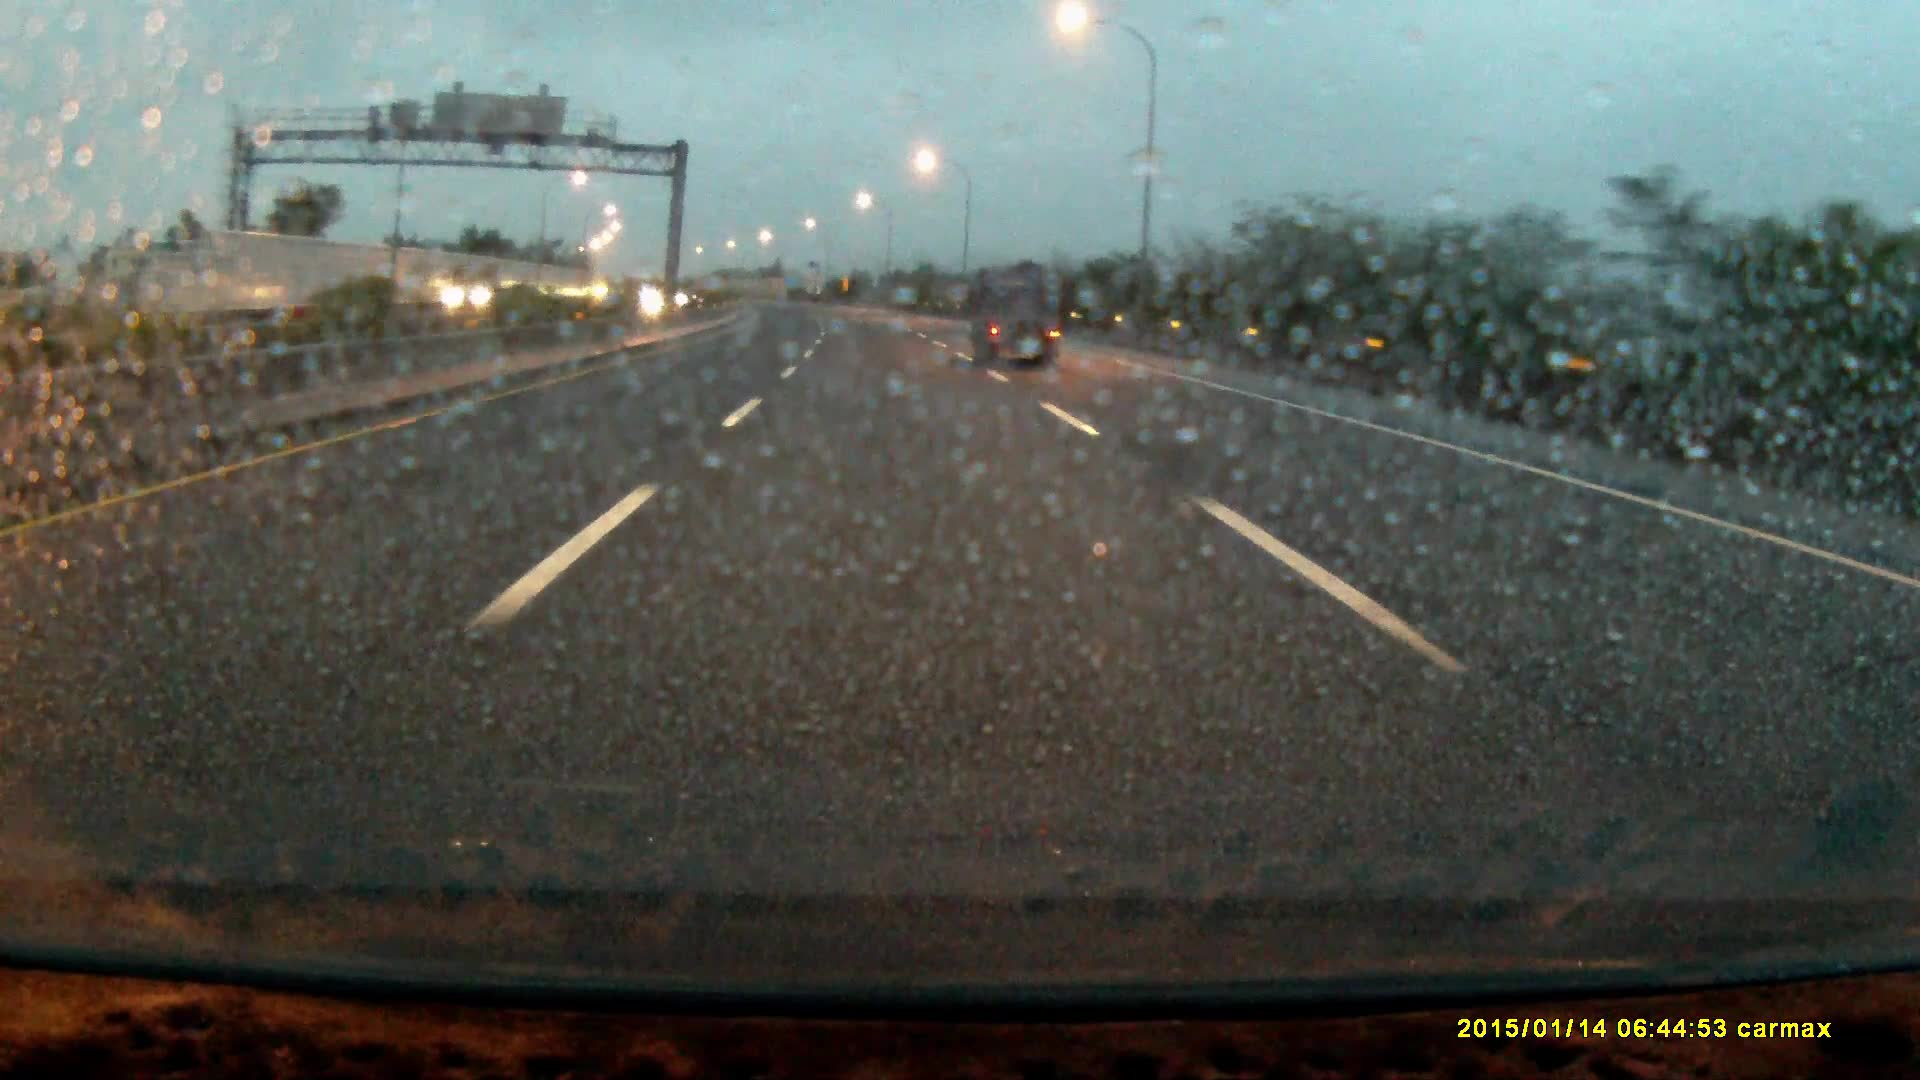vehicle: (975, 269, 1062, 364), (444, 258, 539, 316)
